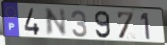1: (139, 12, 153, 41)
3: (71, 10, 88, 38)
4: (24, 8, 41, 36)
7: (116, 11, 136, 40)
9: (94, 10, 112, 39)
N: (45, 8, 68, 37)
